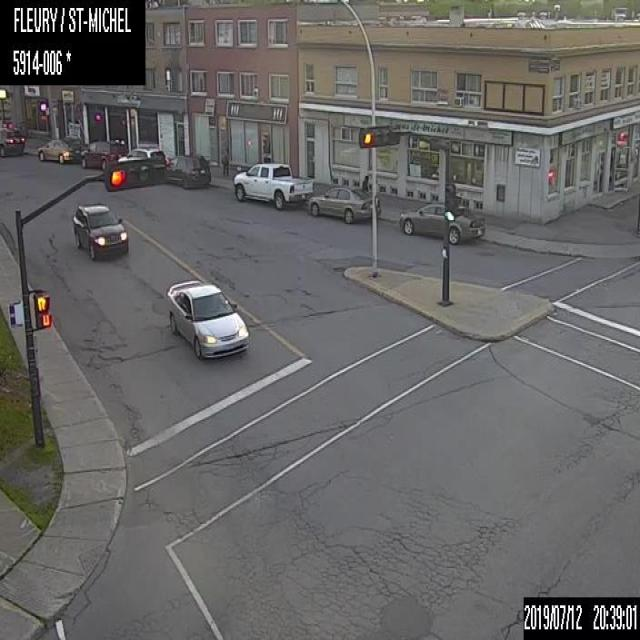pedestrian: (221, 147, 229, 177)
vehicle: (166, 279, 249, 360), (233, 159, 313, 210), (398, 198, 484, 244), (71, 200, 127, 260), (307, 187, 380, 224), (168, 150, 212, 191), (78, 138, 126, 169), (36, 136, 84, 163), (0, 122, 25, 158), (120, 141, 166, 159)
